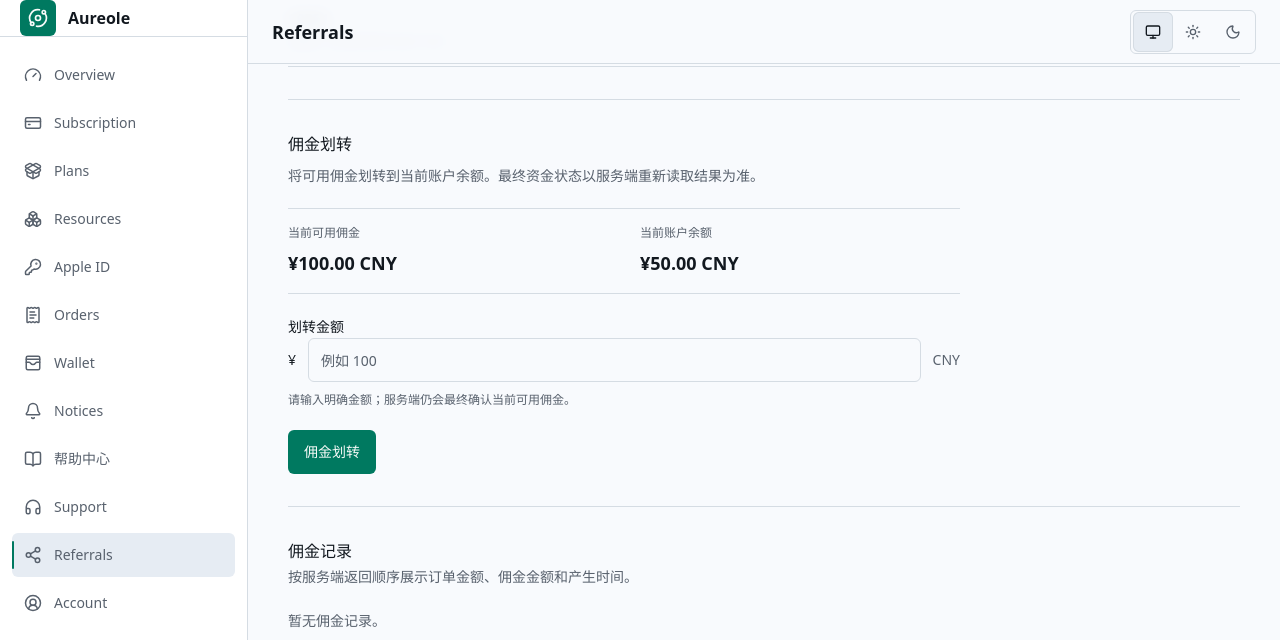
Commission Transfer authority and confirmation › blocks a same-tick confirm when current Wallet authority starts fetching
(page scrolled)
Type "10" into the field labelled "划转金额" at x=614, y=360, box 308,338 -> 921,382
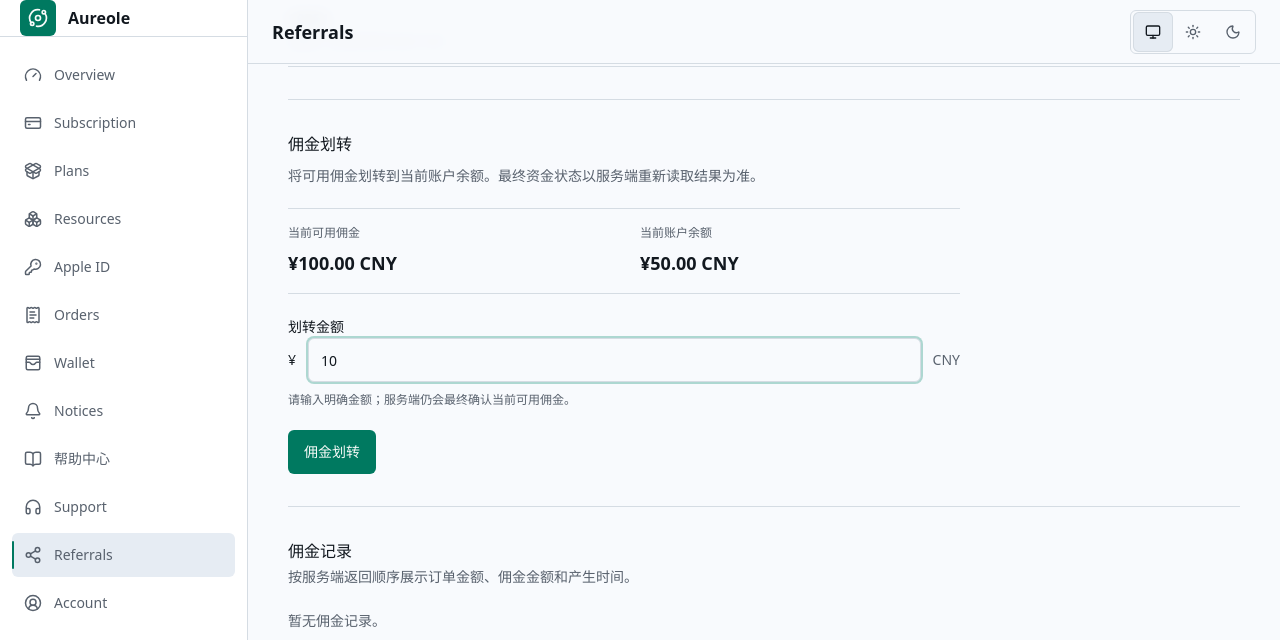
Click the button "佣金划转" at x=332, y=452, box 288,430 -> 376,474
(page scrolled)
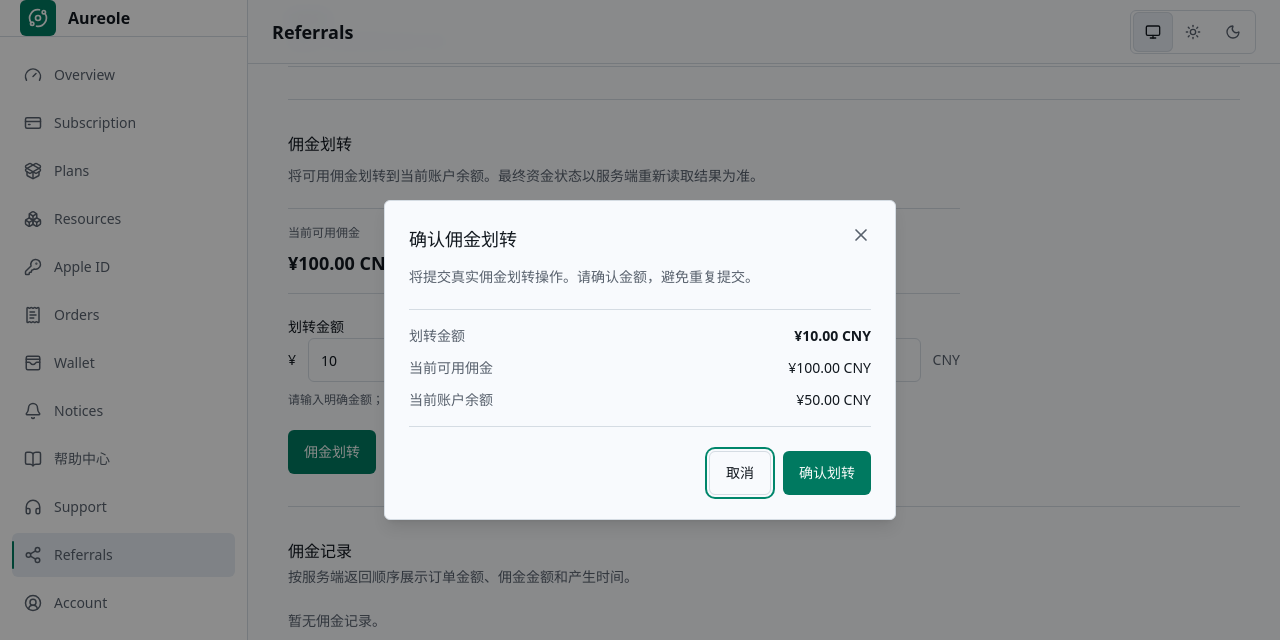
Click the button "确认划转" at x=827, y=473, box 783,451 -> 871,495
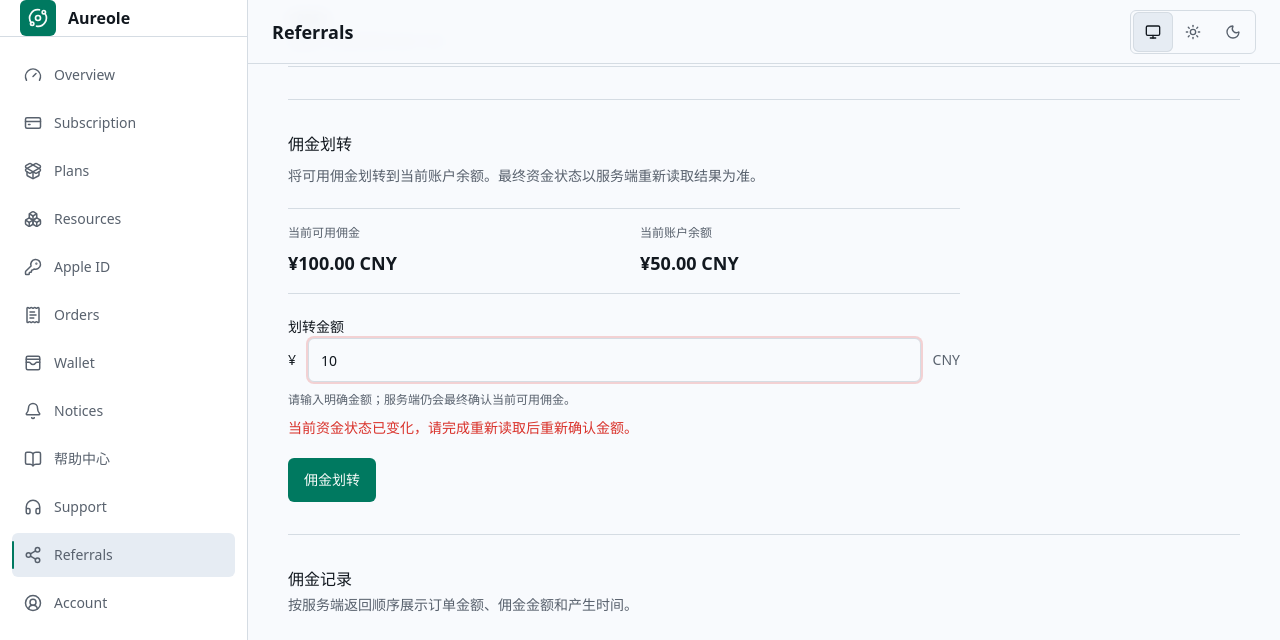
Expected: the dialog is gone
Expected: the text "当前资金状态已变化，请完成重新读取后重新确认金额。" is shown, 288,418 -> 638,437
